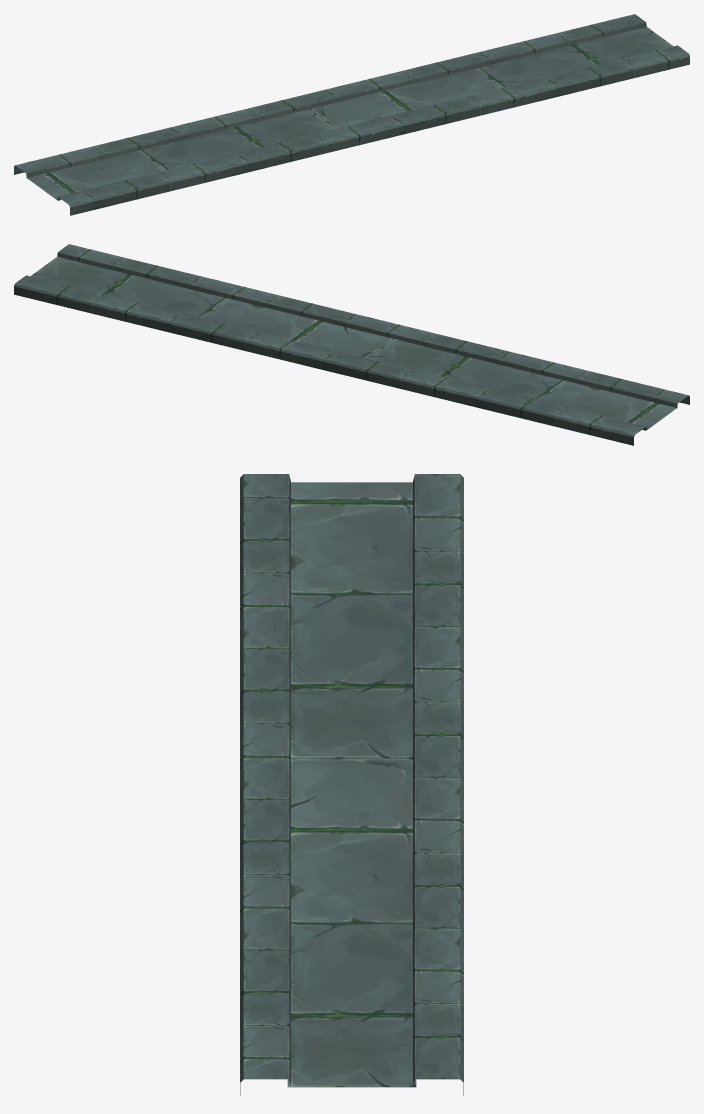
Rendered from zhucheng_langan08.FBX.
3 renders of one model, top to bottom at view 1: azimuth 30°, elevation 25°; view 2: azimuth 150°, elevation 25°; view 3: azimuth 270°, elevation 25°, orthographic. The views are drawn at different scales.
Visible parts, largest first — view 1: zhucheng_langan08; view 2: zhucheng_langan08; view 3: zhucheng_langan08.
Part boxes in pixels (<box>): zhucheng_langan08: <box>14,14,689,215</box>; zhucheng_langan08: <box>14,244,689,445</box>; zhucheng_langan08: <box>240,474,463,1095</box>.
Size of the model in its own units: 1139 by 18.04 by 178.
